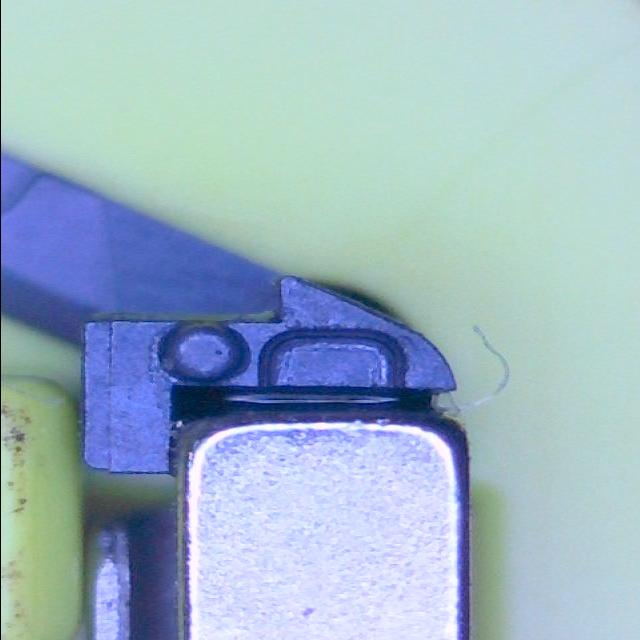lacking: (256, 326, 407, 398)
